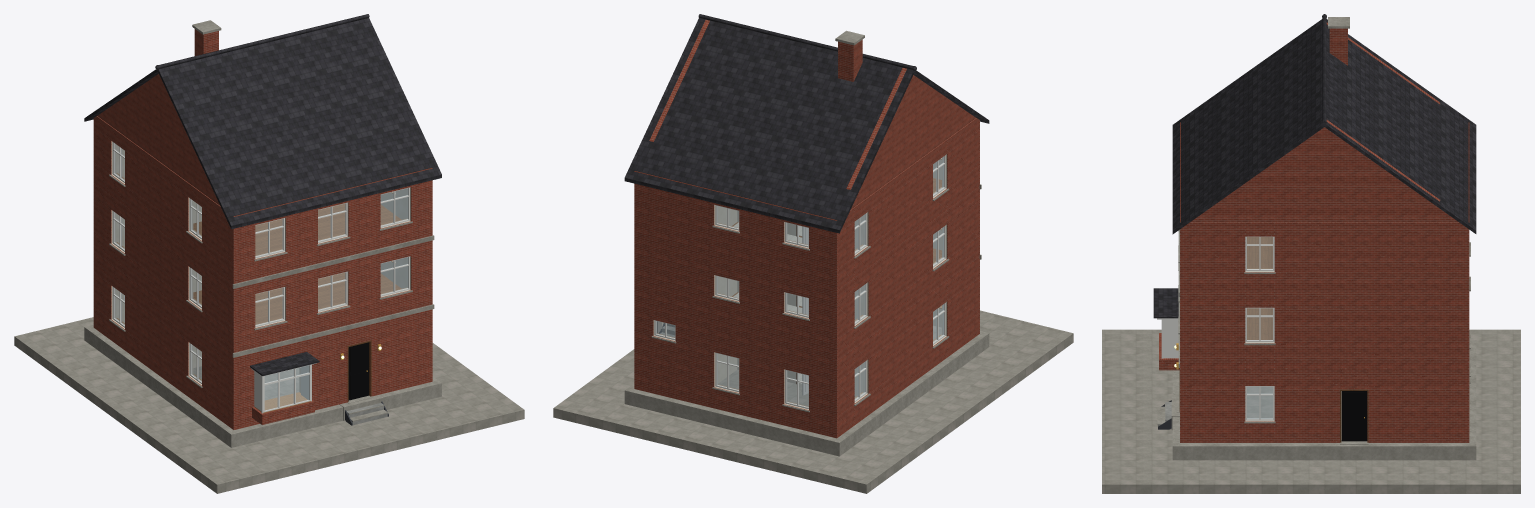
File: b_london_terrace.gltf
The picture shows the model from 3 angles, left to right: view 1: azimuth 30°, elevation 25°; view 2: azimuth 150°, elevation 25°; view 3: azimuth 270°, elevation 25°; orthographic projection. The views are drawn at different scales.
Parts seen in each view (by area): view 1: S_london_terrace, D_london_terrace_F1_S1_Door0; view 2: S_london_terrace; view 3: S_london_terrace, D_london_terrace_F1_E1_Door0.
Boxes of the visible parts, bbox=[...] form: S_london_terrace: bbox=[14, 14, 524, 493]; D_london_terrace_F1_S1_Door0: bbox=[348, 342, 368, 400]; S_london_terrace: bbox=[553, 14, 1073, 493]; S_london_terrace: bbox=[1102, 14, 1520, 493]; D_london_terrace_F1_E1_Door0: bbox=[1341, 391, 1367, 441].
Size of the model in its own units: 14 by 15.6 by 16.
Materials: 18 (11 with a texture image).
